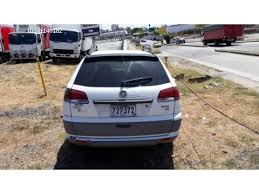car: (63, 49, 180, 148), (49, 25, 99, 63), (7, 26, 49, 64), (201, 24, 244, 49)
